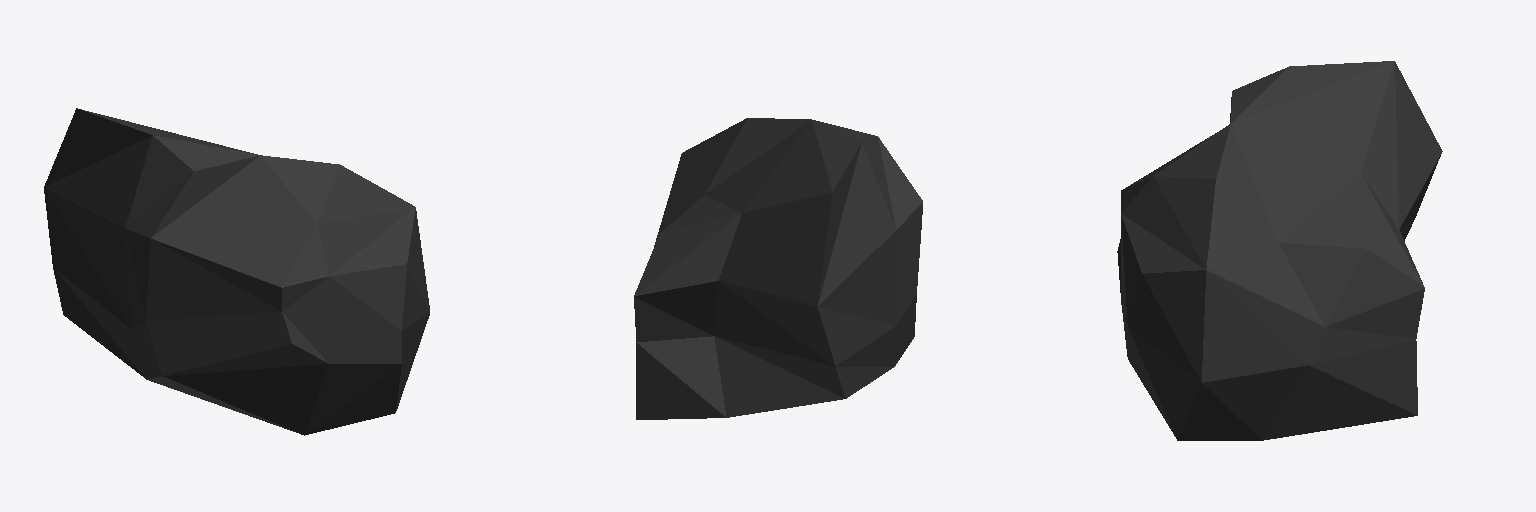
Rendered from rock_small.obj.
3 renders of one model, left to right at view 1: azimuth 30°, elevation 25°; view 2: azimuth 150°, elevation 25°; view 3: azimuth 270°, elevation 25°, orthographic.
Visible parts, largest first — view 1: Cube.003; view 2: Cube.003; view 3: Cube.003.
Boxes of the visible parts, <box> form: Cube.003: <box>44,108,429,435</box>; Cube.003: <box>634,118,922,419</box>; Cube.003: <box>1117,61,1442,440</box>.
Bounding box in the file's own units: 1.29 × 1.29 × 1.35.